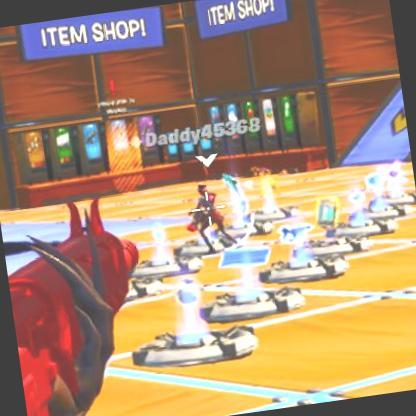person: (193, 186, 228, 250)
